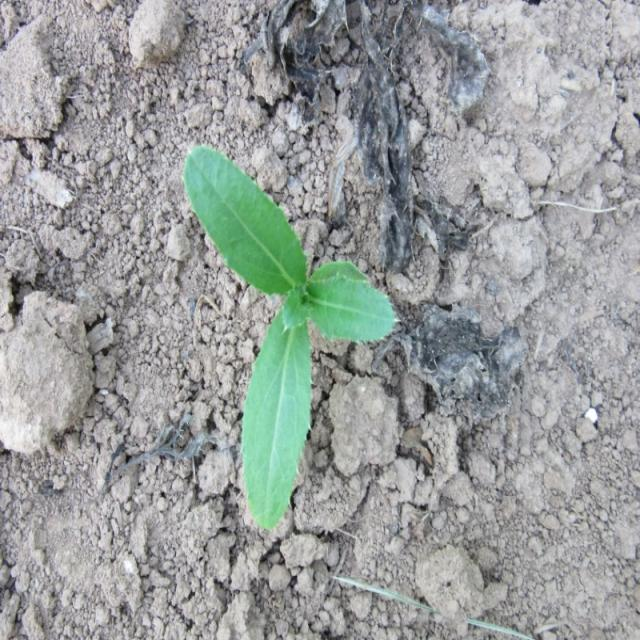cs: (181, 142, 400, 532)
